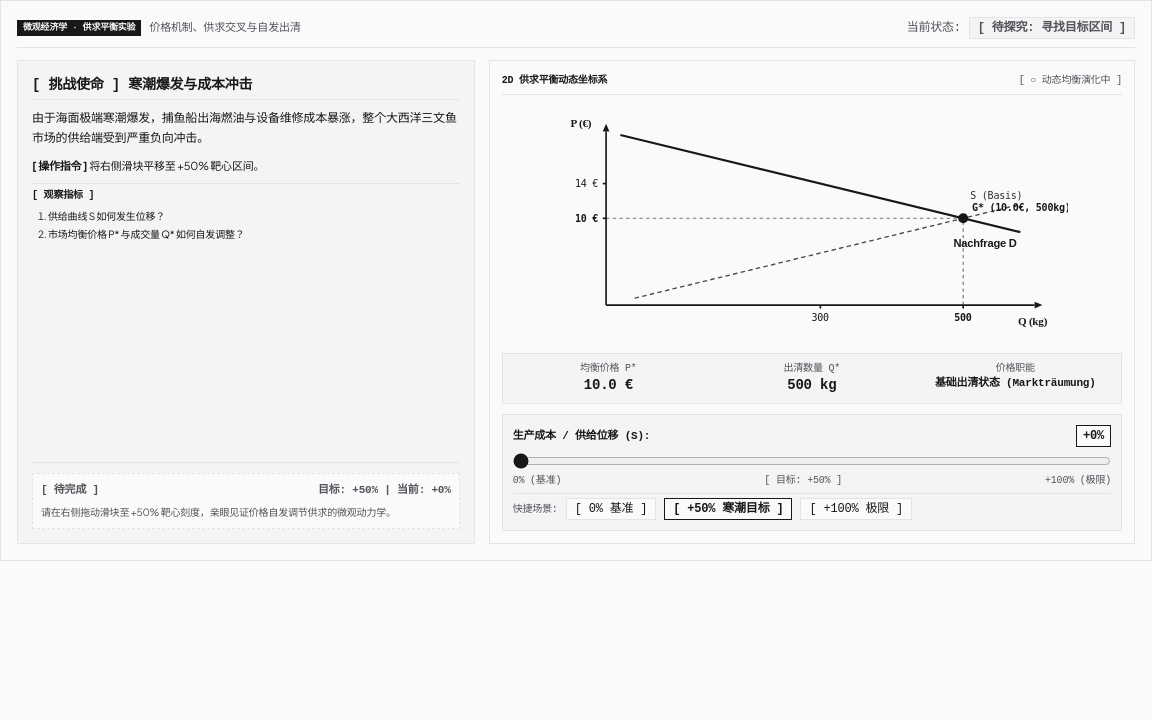
Scenario: MarktgleichgewichtSim Component › handles extreme state (+100%) with dynamic ticks and non-default price function
This screenshot has width=1152, height=720.
Step 1. Set the slider to "100" → (1103, 461), box [513,453,1111,469]
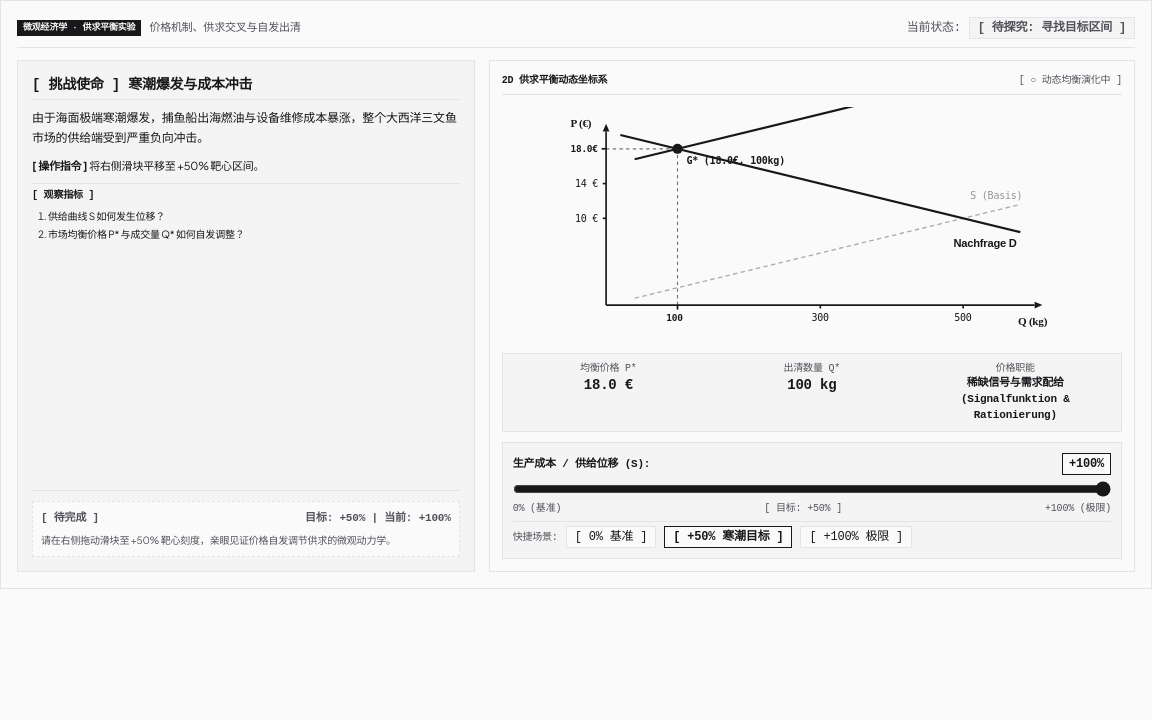
Now the text "18.0 €" is shown, box [584,377,633,393]
Now the text "100 kg" is shown, box [787,377,836,393]
Now the text "稀缺信号与需求配给 (Signalfunktion & Rationierung)" is shown, box [961,377,1070,421]
